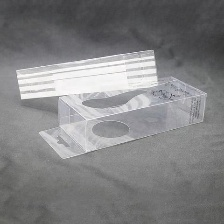plastic_box: (9, 44, 212, 165)
